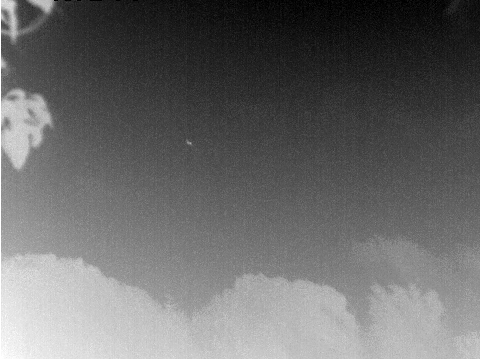dim target: (185, 139, 192, 146)
